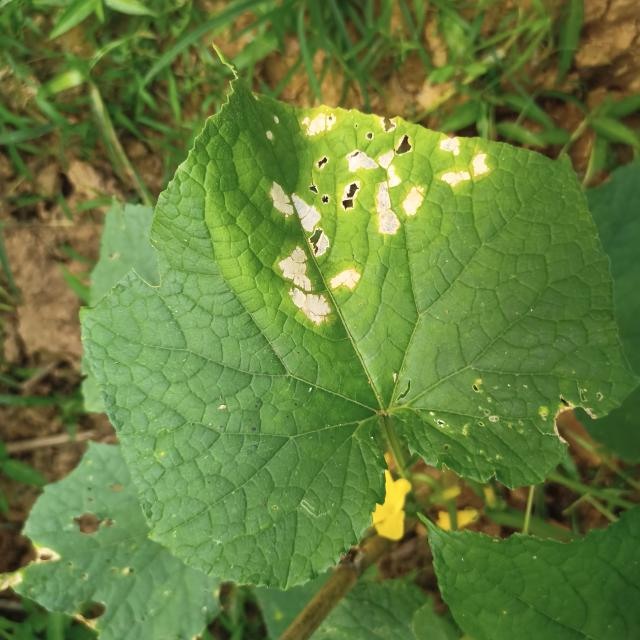disease_cucumber: (263, 102, 491, 330)
